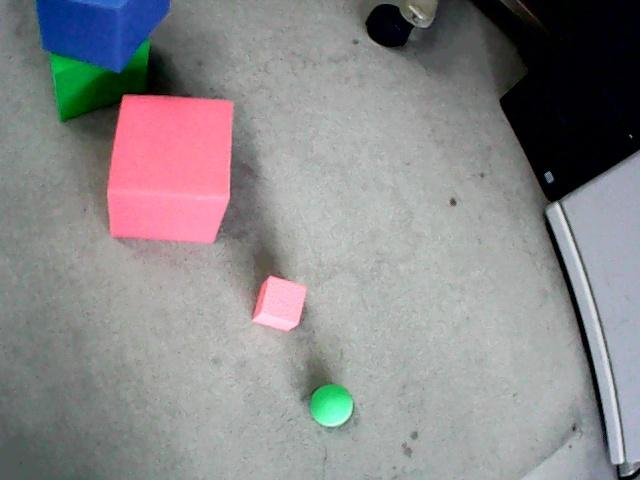blue_block: (37, 0, 169, 72)
red_block: (107, 95, 232, 242), (253, 276, 305, 330)
